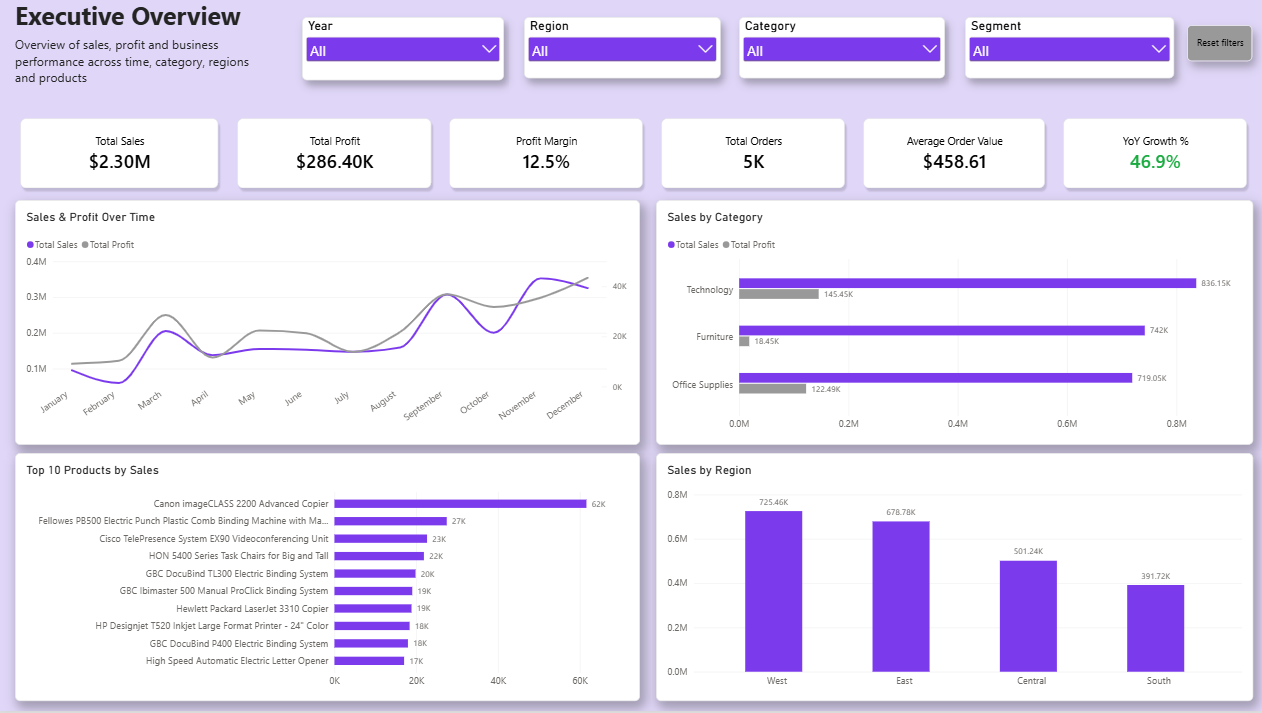

This screenshot's page, from the dashboard's own definition file:
{"tool":"powerbi","page":{"name":"Executive Overview","canvas":[1920,1080],"ordinal":0},"visuals":[{"type":"cardVisual","fields":{"Data":["FactSales.Total Sales"]},"box":[27.7,172.2,316.6,122.6],"z":0},{"type":"cardVisual","fields":{"Data":["FactSales.Total Profit"]},"box":[355.7,172.2,310.8,122.6],"z":1000},{"type":"cardVisual","fields":{"Data":["FactSales.Profit Margin"]},"box":[677.8,172.2,309.3,122.6],"z":2000},{"type":"cardVisual","fields":{"Data":["FactSales.Total Orders"]},"box":[998.5,172.2,294.7,122.6],"z":3000},{"type":"cardVisual","fields":{"Data":["FactSales.Avg Order Value"]},"box":[1304.6,172.2,291.8,122.6],"z":4000},{"type":"cardVisual","fields":{"Data":["FactSales.YoY Growth %"]},"box":[1607.8,172.2,294.7,122.6],"z":5000},{"type":"lineChart","title":"Sales & Profit Over Time","fields":{"Category":["Calendar.Month Name"],"Y":["FactSales.Total Sales"],"Y2":["FactSales.Total Profit"]},"box":[27.7,304.9,946.9,370.6],"z":6000},{"type":"clusteredBarChart","title":"Sales by Category","fields":{"Category":["DimProduct.Category"],"Y":["FactSales.Total Sales","FactSales.Total Profit"]},"box":[997.9,304.9,904.6,370.6],"z":7000},{"type":"clusteredColumnChart","title":"Sales by Region","fields":{"Category":["DimGeography.Region"],"Y":["FactSales.Total Sales"]},"box":[997.9,687.2,904.6,376.4],"z":8000},{"type":"clusteredBarChart","title":"Top 10 Products by Sales","fields":{"Category":["DimProduct.Product Name"],"Y":["FactSales.Total Sales"]},"box":[27.7,687.2,946.9,376.4],"z":9000},{"type":"slicer","fields":{"Values":["Calendar.Year"]},"box":[462.5,27.7,306.4,96.3],"z":10000},{"type":"slicer","fields":{"Values":["DimGeography.Region"]},"box":[798.1,27.7,297.6,93.4],"z":11000},{"type":"slicer","fields":{"Values":["DimCustomer.Segment"]},"box":[1466.3,27.7,316.6,93.4],"z":12000},{"type":"slicer","fields":{"Values":["DimProduct.Category"]},"box":[1124.9,27.7,312.2,93.4],"z":13000},{"type":"textbox","box":[27.7,0,434.8,77.3],"z":14000},{"type":"actionButton","box":[1803.3,39.4,99.2,55.4],"z":15000},{"type":"textbox","box":[27.7,55.4,358.9,137.1],"z":16000}]}

Visuals, with their boxes in screenshot pixels (x1, y1, x2, y2), scaled from the page's 1920x1080 canvas onto the 1262x713 screenshot:
cardVisual - FactSales.Total Sales: <box>18,114,226,195</box>
cardVisual - FactSales.Total Profit: <box>234,114,438,195</box>
cardVisual - FactSales.Profit Margin: <box>446,114,649,195</box>
cardVisual - FactSales.Total Orders: <box>656,114,850,195</box>
cardVisual - FactSales.Avg Order Value: <box>858,114,1049,195</box>
cardVisual - FactSales.YoY Growth %: <box>1057,114,1250,195</box>
"Sales & Profit Over Time" lineChart: <box>18,201,641,446</box>
"Sales by Category" clusteredBarChart: <box>656,201,1250,446</box>
"Sales by Region" clusteredColumnChart: <box>656,454,1250,702</box>
"Top 10 Products by Sales" clusteredBarChart: <box>18,454,641,702</box>
slicer - Calendar.Year: <box>304,18,505,82</box>
slicer - DimGeography.Region: <box>525,18,720,80</box>
slicer - DimCustomer.Segment: <box>964,18,1172,80</box>
slicer - DimProduct.Category: <box>739,18,945,80</box>
textbox: <box>18,0,304,51</box>
actionButton: <box>1185,26,1250,63</box>
textbox: <box>18,37,254,127</box>
